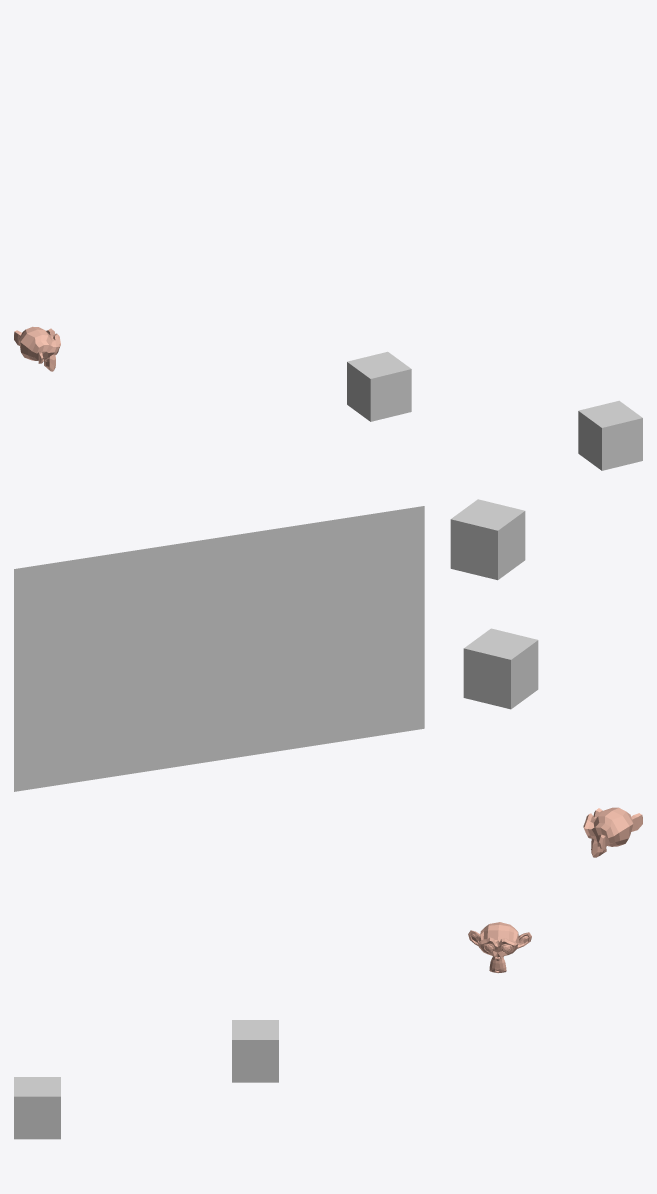
File: plano.glb
The picture shows the model from 3 angles, top to bottom: view 1: azimuth 30°, elevation 25°; view 2: azimuth 150°, elevation 25°; view 3: azimuth 270°, elevation 25°; orthographic projection. The views are drawn at different scales.
Visible parts, largest first — view 1: Cube.001, Cube.002, Suzanne; view 2: Screen, Cube.001, Cube.002, Suzanne; view 3: Cube.001, Cube.002, Suzanne.
Part boxes in pixels (x1,y1,x2,y2): Cube.001: [578, 400, 642, 470]; Cube.002: [347, 351, 411, 421]; Suzanne: [14, 326, 60, 371]; Screen: [14, 506, 424, 791]; Cube.001: [450, 499, 525, 580]; Cube.002: [463, 628, 538, 709]; Suzanne: [583, 807, 642, 857]; Cube.001: [14, 1077, 60, 1139]; Cube.002: [232, 1020, 278, 1082]; Suzanne: [468, 922, 531, 973].
Size of what is drawn, in the model's own units: 22.52 by 9.13 by 26.79.
1 material, 1 textured.
